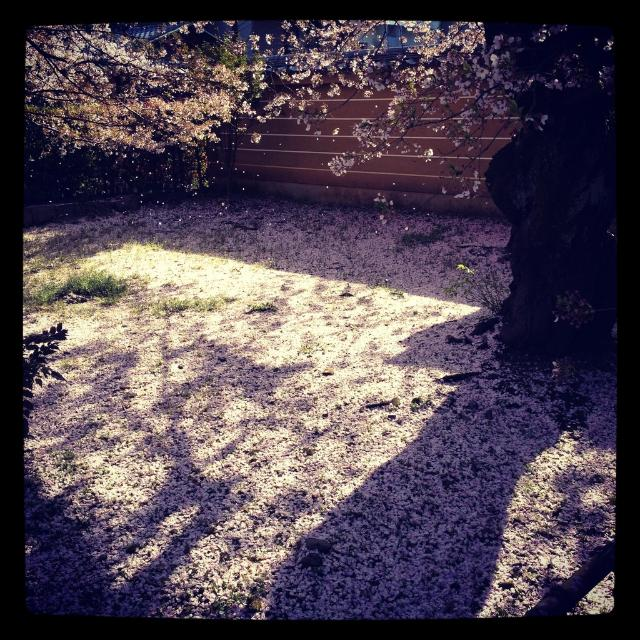Flower: (31, 17, 637, 163), (330, 155, 354, 175)
